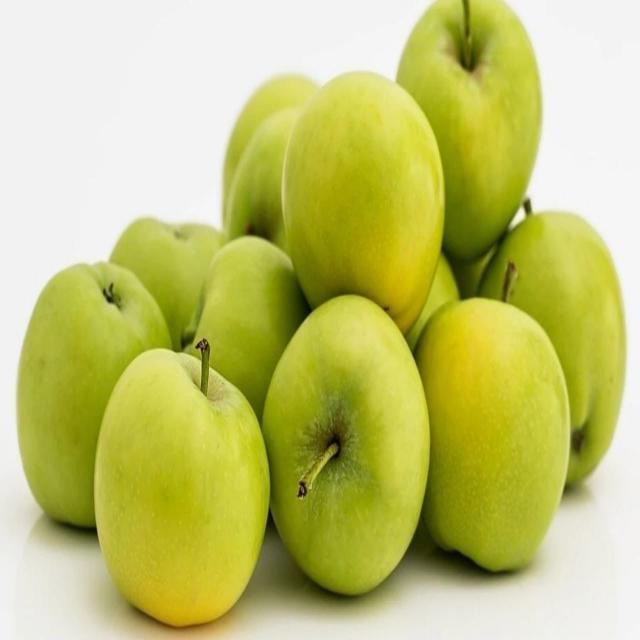Fresh Apple: (257, 300, 435, 587), (94, 340, 248, 640), (425, 303, 563, 560), (288, 90, 448, 308), (30, 265, 143, 545)
